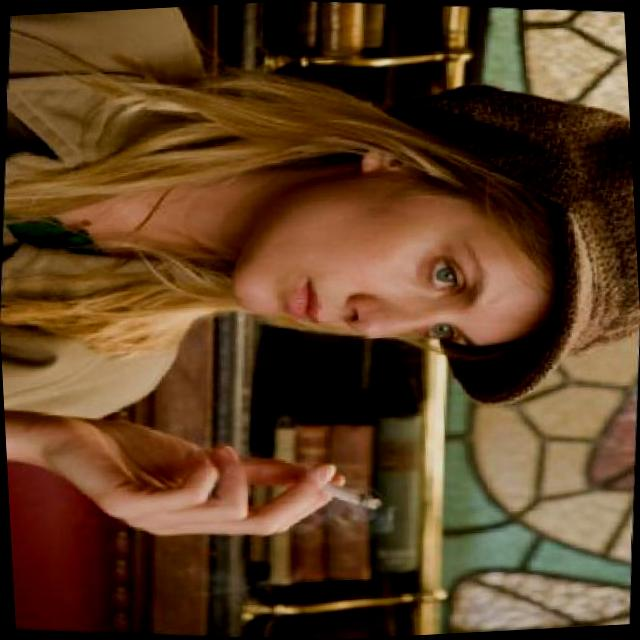cigarette: (318, 473, 386, 512)
